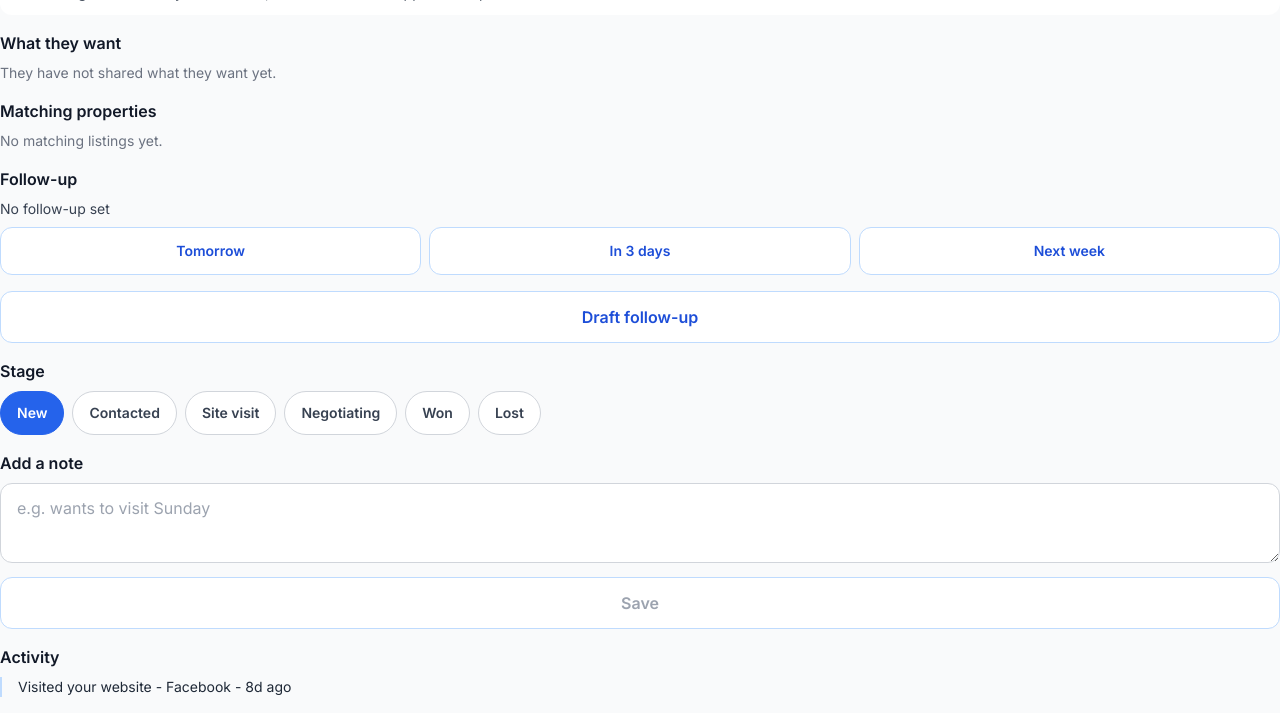
Scenario: Why was it lost? sheet (stage Lost) › shows the reason chips and a Skip option
(page scrolled)
Click the button "Lost" at x=509, y=413, box [478,391,541,435]
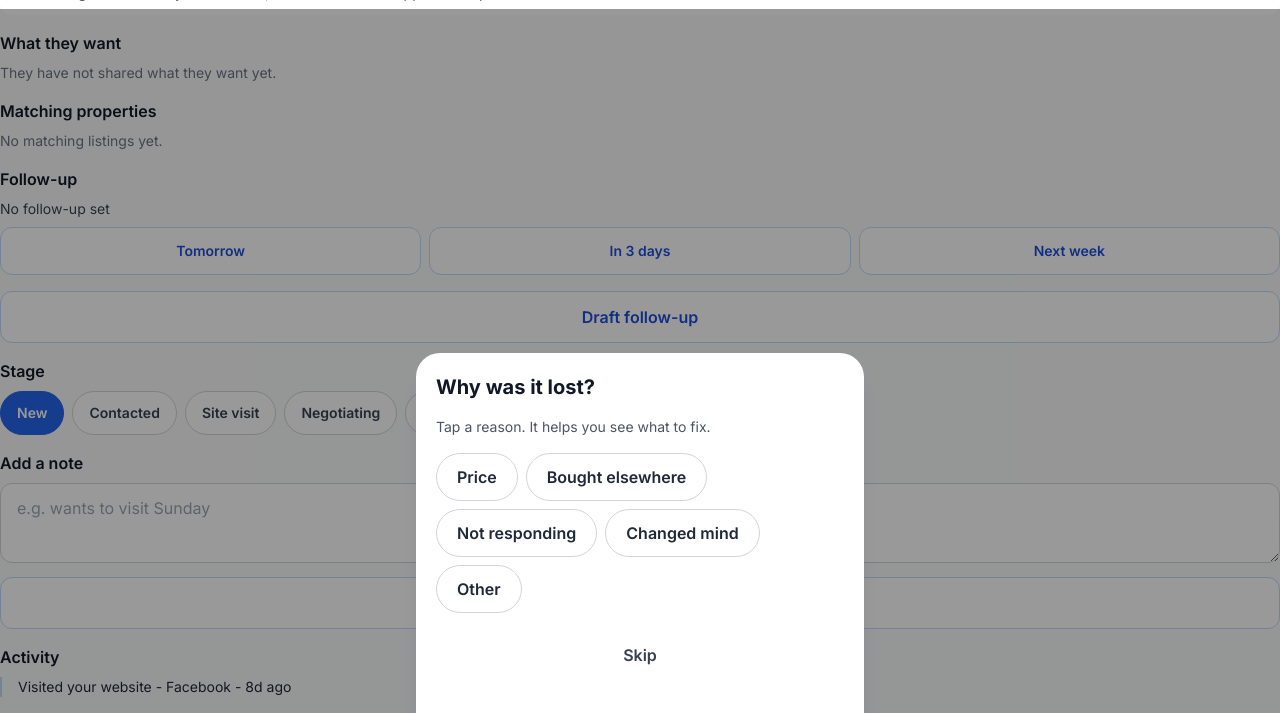
Expected: the button "Price" is shown, [436,453,518,501]
Expected: the button "Bought elsewhere" is shown, [526,453,707,501]
Expected: the button "Not responding" is shown, [436,509,597,557]
